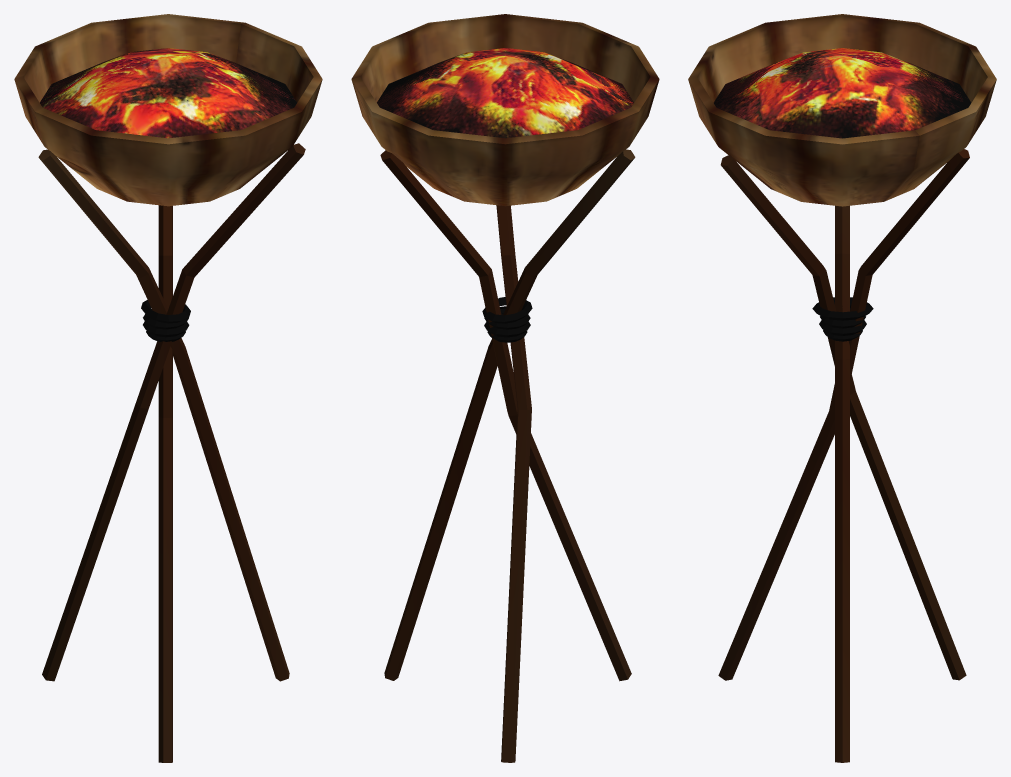
File: brasero.FBX
3 renders of one model, left to right at view 1: azimuth 30°, elevation 25°; view 2: azimuth 150°, elevation 25°; view 3: azimuth 270°, elevation 25°, orthographic.
Parts seen in each view (by area): view 1: brasero; view 2: brasero; view 3: brasero.
Part boxes in pixels (<box>): brasero: <box>14,14,322,762</box>; brasero: <box>351,14,659,762</box>; brasero: <box>688,14,996,762</box>.
Bounding box in the file's own units: 0.995 × 2.31 × 0.995.
